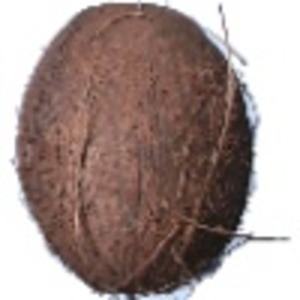coco: (13, 1, 287, 300)
